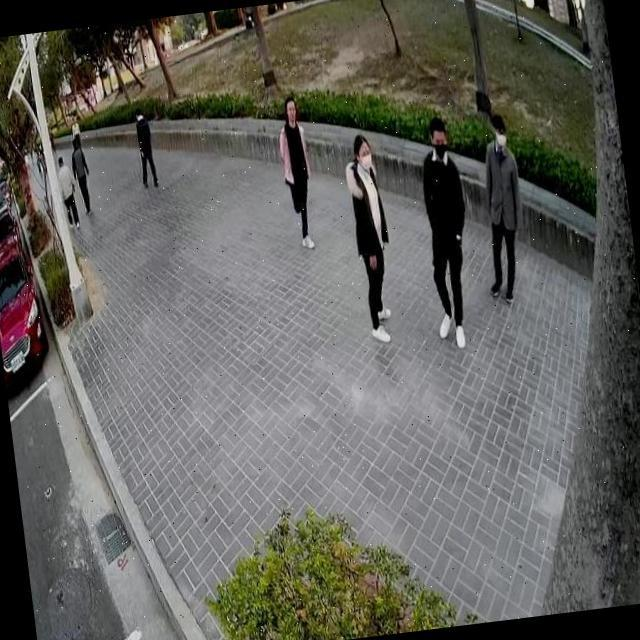person: (410, 108, 488, 354), (338, 128, 402, 348), (466, 108, 536, 308), (272, 87, 324, 256), (51, 148, 86, 234), (130, 98, 162, 192), (65, 131, 96, 219)
